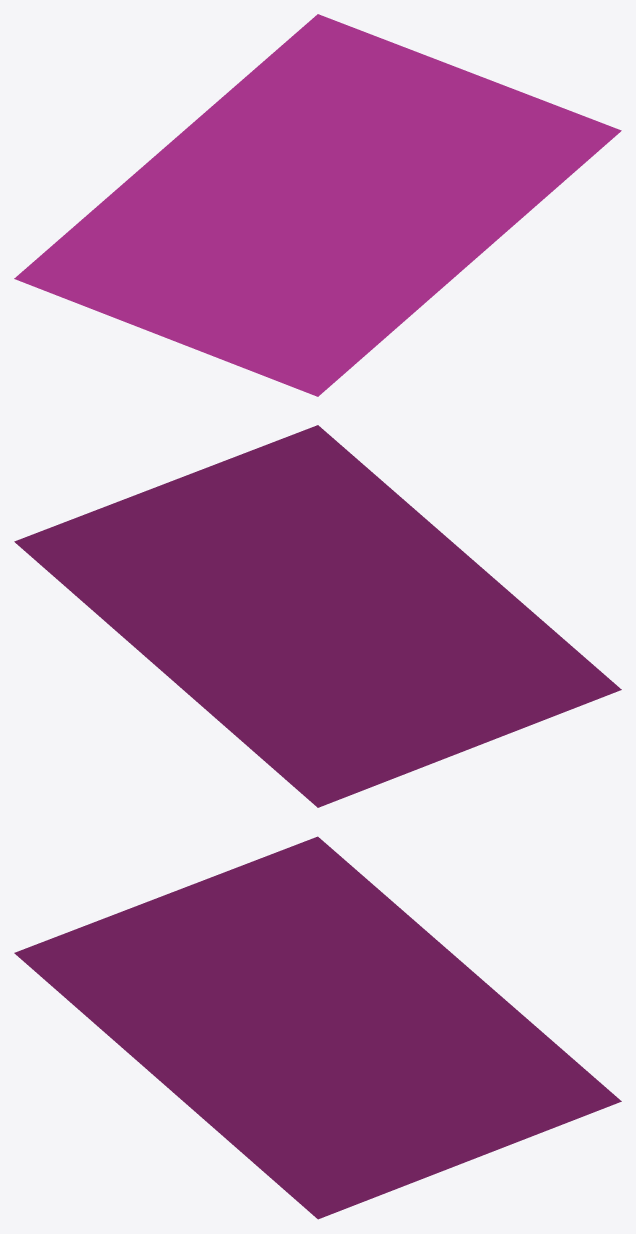
Rendered from driehoekriser.fbx.
The picture shows the model from 3 angles, top to bottom: view 1: azimuth 30°, elevation 25°; view 2: azimuth 150°, elevation 25°; view 3: azimuth 330°, elevation 25°; orthographic projection.
Parts seen in each view (by area): view 1: Plane.026; view 2: Plane.026; view 3: Plane.026.
Part boxes in pixels (x1,y1,x2,y2): Plane.026: [14, 14, 621, 396]; Plane.026: [14, 425, 621, 807]; Plane.026: [14, 836, 621, 1219].
Size of the model in its own units: 0.4802 by 0.289 by 3.17e-06.
